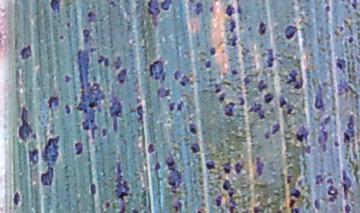tarspot: (76, 46, 105, 141), (39, 135, 61, 186), (163, 152, 187, 194), (113, 159, 131, 213), (15, 105, 38, 143), (295, 124, 312, 157), (108, 95, 123, 132), (317, 114, 331, 152), (341, 114, 358, 144), (285, 68, 304, 91), (148, 59, 166, 83), (341, 168, 354, 200), (145, 1, 160, 27), (311, 83, 325, 110), (248, 101, 266, 121), (17, 44, 35, 61), (254, 154, 266, 178), (228, 183, 237, 213), (325, 184, 339, 203), (115, 67, 129, 85), (27, 147, 40, 165), (283, 24, 297, 40), (223, 101, 236, 118), (333, 57, 348, 71), (265, 47, 275, 68), (226, 34, 240, 49), (73, 140, 85, 157), (341, 17, 353, 34), (81, 26, 91, 45), (47, 95, 60, 109), (156, 86, 170, 99), (256, 78, 268, 93), (256, 21, 267, 37), (12, 190, 22, 207), (49, 1, 62, 14), (86, 11, 99, 24), (271, 121, 283, 135), (225, 3, 237, 17), (179, 74, 191, 88), (187, 122, 198, 137), (288, 187, 303, 198), (136, 103, 145, 121), (228, 17, 238, 33), (276, 95, 288, 108), (221, 160, 232, 174), (160, 1, 174, 12), (113, 55, 123, 70), (145, 143, 157, 155), (190, 142, 201, 155), (204, 159, 217, 170), (263, 92, 274, 105), (314, 173, 325, 186), (172, 200, 183, 213), (194, 1, 203, 16), (175, 98, 184, 113), (234, 162, 244, 175), (221, 178, 230, 192), (63, 103, 73, 115), (96, 54, 106, 66), (236, 95, 246, 107), (239, 47, 251, 57), (214, 195, 223, 208), (103, 56, 112, 69), (90, 181, 97, 197), (262, 129, 272, 140), (99, 126, 108, 138), (172, 69, 181, 81), (167, 100, 176, 112), (212, 81, 220, 94), (288, 197, 296, 210), (342, 203, 352, 213), (153, 161, 162, 172), (208, 45, 217, 56), (313, 198, 321, 210), (203, 60, 213, 69), (325, 176, 334, 186), (236, 3, 244, 14), (63, 73, 71, 84), (286, 173, 293, 185), (286, 106, 294, 116), (251, 205, 261, 213), (347, 35, 355, 44), (109, 1, 118, 9), (230, 68, 239, 76), (219, 90, 225, 102), (350, 1, 358, 10), (208, 4, 215, 14), (338, 24, 345, 34), (103, 200, 111, 208), (333, 140, 341, 148), (58, 34, 66, 42), (289, 207, 299, 213), (130, 207, 139, 213), (324, 4, 330, 13), (65, 21, 73, 27), (246, 26, 253, 32), (274, 209, 283, 213), (195, 209, 204, 213), (187, 1, 196, 4)
